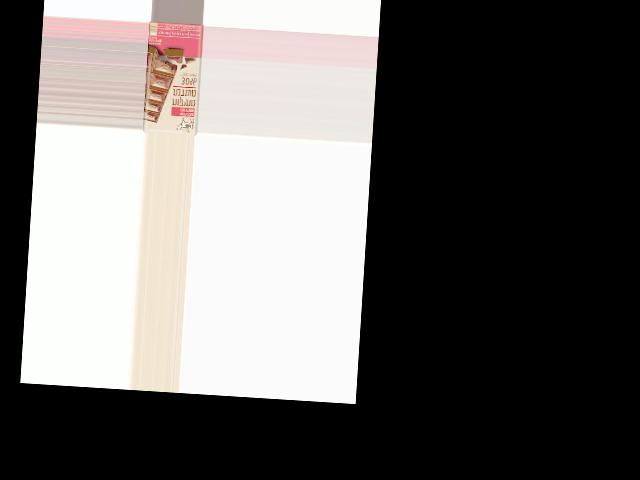chocolate: (142, 22, 204, 135)
